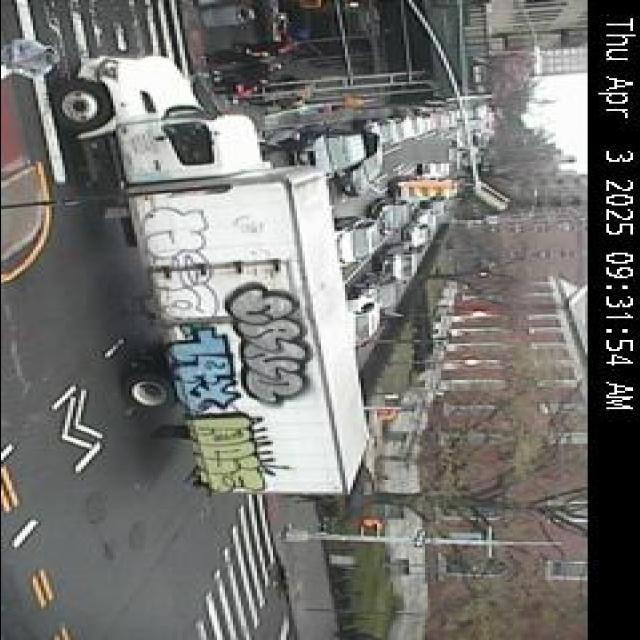open parking: (338, 114, 393, 204)
parkedCars: (305, 98, 483, 157)
